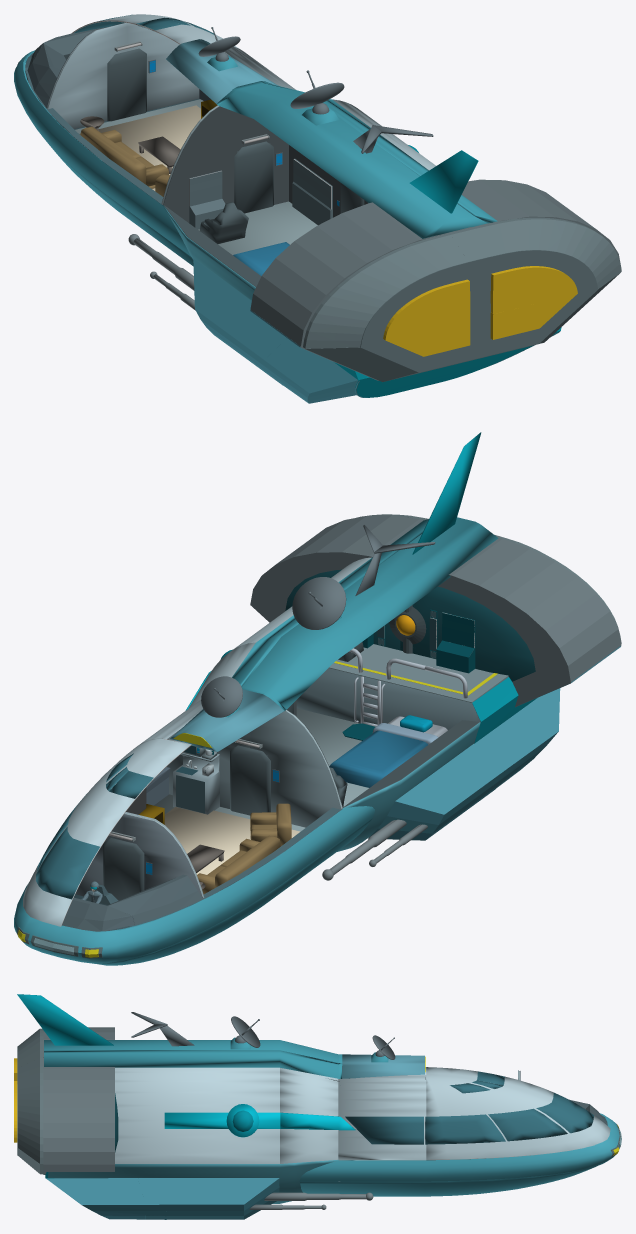
Rendered from warp-wagon.glb.
The picture shows the model from 3 angles, top to bottom: view 1: azimuth 30°, elevation 25°; view 2: azimuth 150°, elevation 25°; view 3: azimuth 270°, elevation 25°; orthographic projection. The views are drawn at different scales.
Parts seen in each view (by area): view 1: New_Game_Object (×32); view 2: New_Game_Object (×33); view 3: New_Game_Object (×14).
Boxes of the visible parts, x1=… form: New_Game_Object (×32): x1=14, y1=14, x2=621, y2=403; New_Game_Object (×33): x1=14, y1=432, x2=621, y2=965; New_Game_Object (×14): x1=14, y1=994, x2=619, y2=1219.
Bounding box in the file's own units: 2.99 × 2.46 × 6.92.
